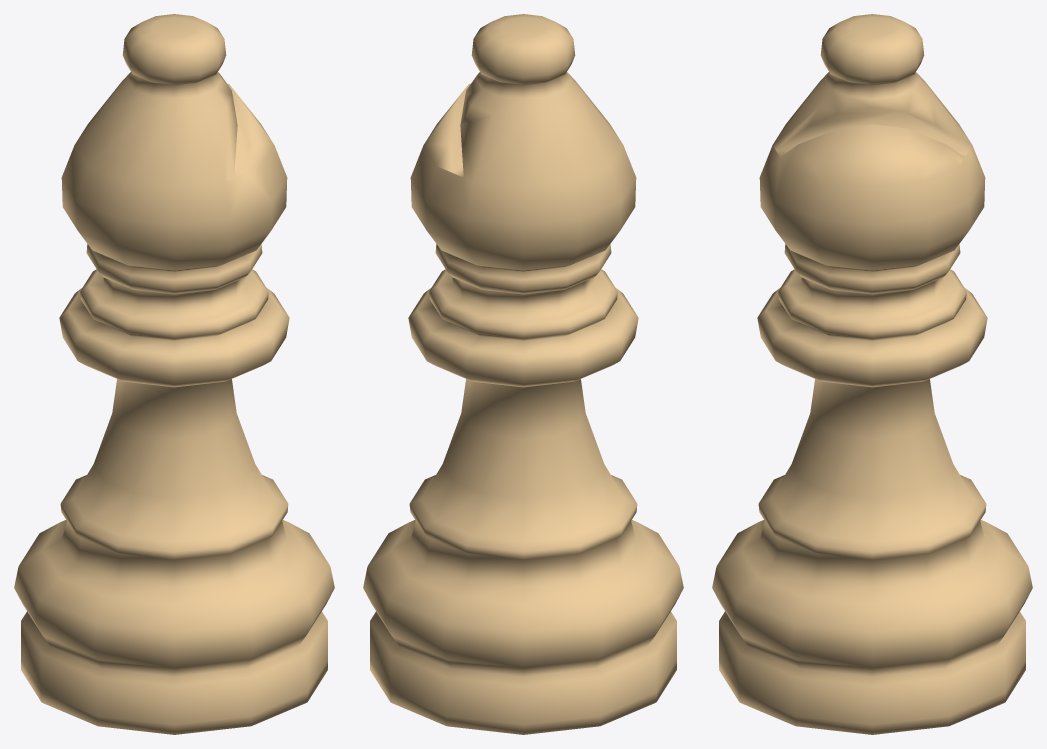
The model's file is white_bishop.gltf.
3 views of the same model, side by side, from view 1: azimuth 30°, elevation 25°; view 2: azimuth 150°, elevation 25°; view 3: azimuth 270°, elevation 25° (orthographic).
Visible parts, largest first — view 1: ChessPieceBishop1; view 2: ChessPieceBishop1; view 3: ChessPieceBishop1.
Part boxes in pixels (x1,y1,x2,y2): ChessPieceBishop1: [14, 14, 334, 734]; ChessPieceBishop1: [363, 14, 683, 734]; ChessPieceBishop1: [712, 14, 1032, 734].
Bounding box in the file's own units: 13.56 × 29.99 × 13.56.
